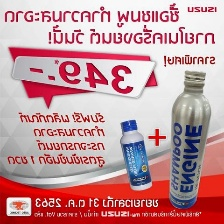bottle: (167, 68, 214, 209), (115, 118, 154, 192)
